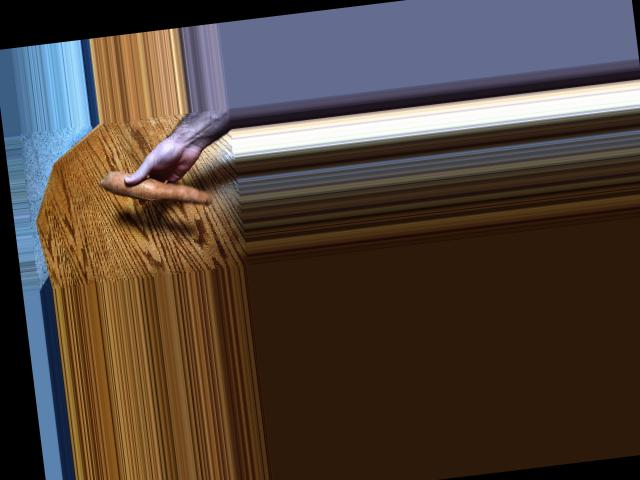sweet_potato: (101, 165, 217, 208)
